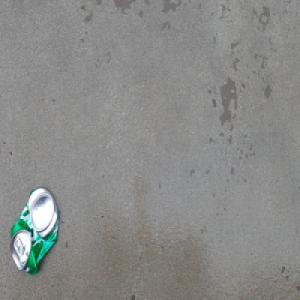SodaCan: (9, 183, 60, 276)
